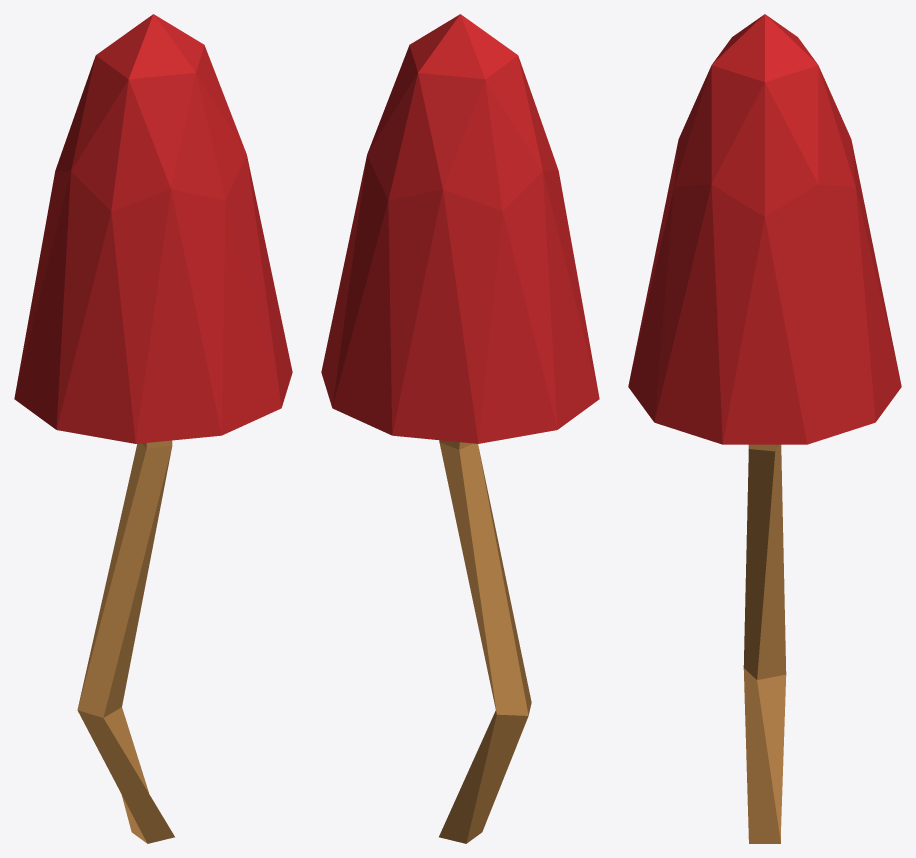
The model's file is shroom4.fbx.
The picture shows the model from 3 angles, left to right: view 1: azimuth 30°, elevation 25°; view 2: azimuth 150°, elevation 25°; view 3: azimuth 270°, elevation 25°; orthographic projection.
Visible parts, largest first — view 1: Cube; view 2: Cube; view 3: Cube.
Boxes of the visible parts, box(x1,y1,x2,y2) form: Cube: box(14, 14, 292, 843); Cube: box(321, 14, 599, 843); Cube: box(628, 14, 901, 843).
Bounding box in the file's own units: 256 × 850 × 256.
